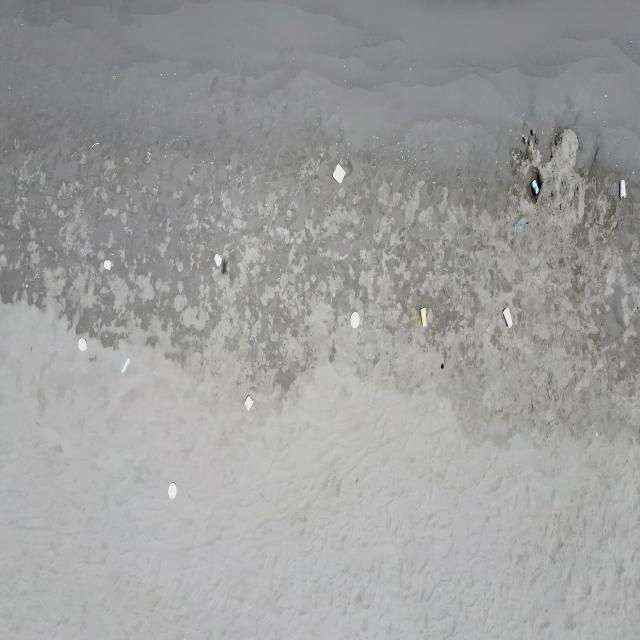take-away-containers: (332, 162, 345, 185), (244, 395, 254, 411), (350, 312, 360, 328), (168, 483, 177, 499), (78, 338, 88, 351), (214, 252, 222, 266), (104, 260, 112, 272)
takeaway-cup: (503, 306, 513, 328), (420, 306, 428, 328), (514, 217, 525, 233), (121, 357, 130, 372), (620, 179, 626, 200), (532, 179, 540, 194)
